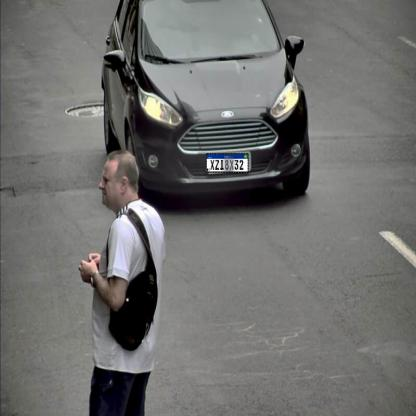PlacaM: (206, 153, 248, 173)
